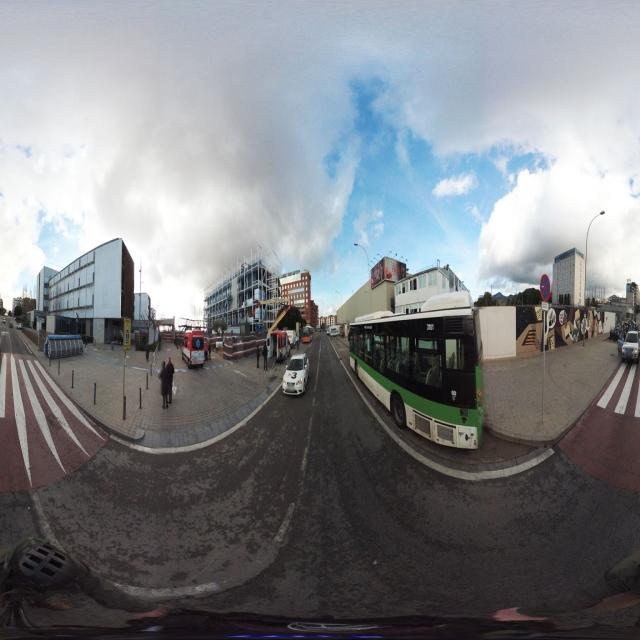forb_stopping: (584, 307, 586, 315)
forb_waiting: (540, 273, 551, 303)
